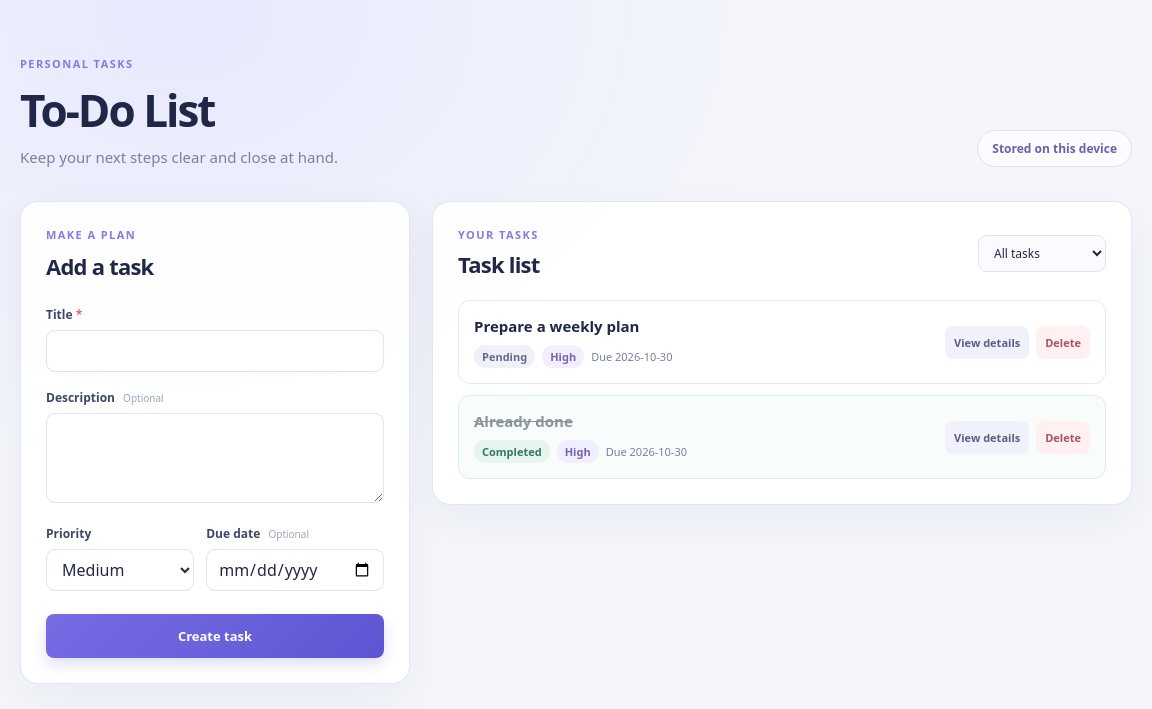
task list and creation UI (P-US-01, P-US-02, P-US-05) › requests the selected status filter from the API
This screenshot has width=1152, height=709.
expect the heading "Already done" is shown: met, box [474,411,573,431]
Step 1. Select "Completed" in the dropdown named "Filter tasks" → (1042, 253), box [978,234,1106,272]
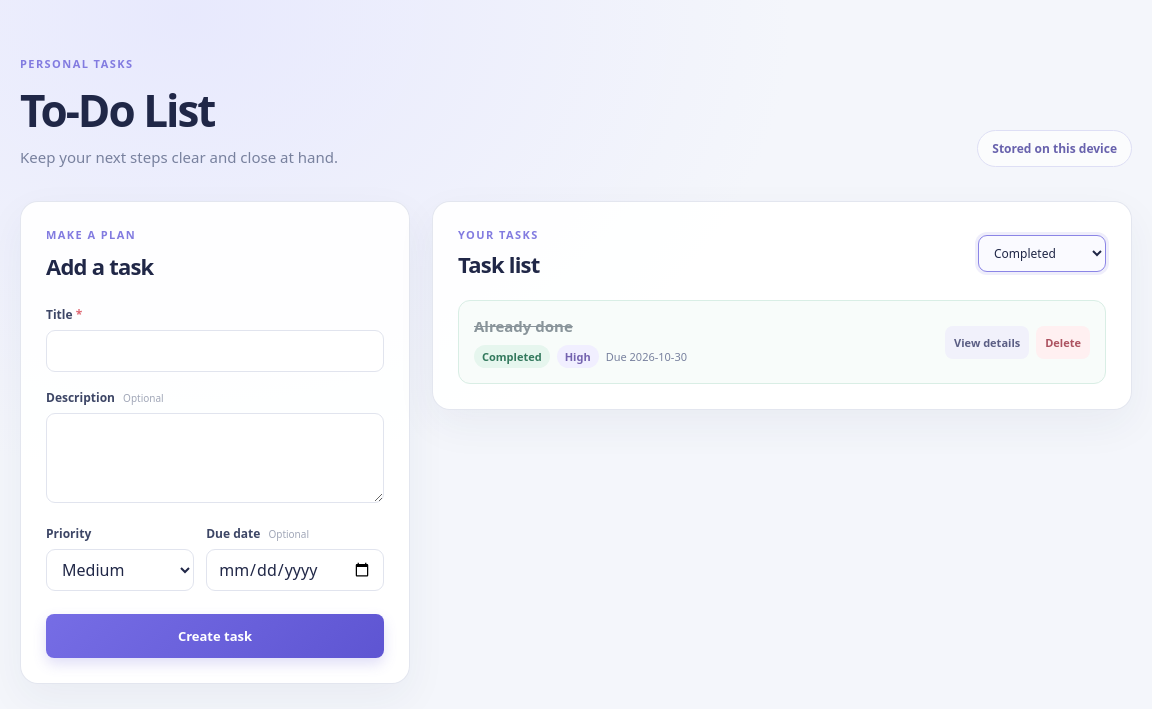
expect the heading "Already done" is shown: met, box [474,316,573,336]
expect the heading "Prepare a weekly plan" is gone: met
